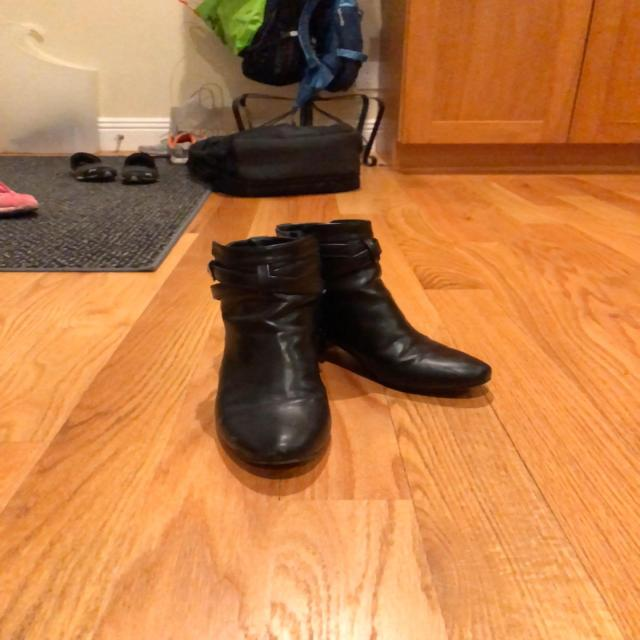shoe: (285, 223, 491, 393), (215, 231, 333, 462)
